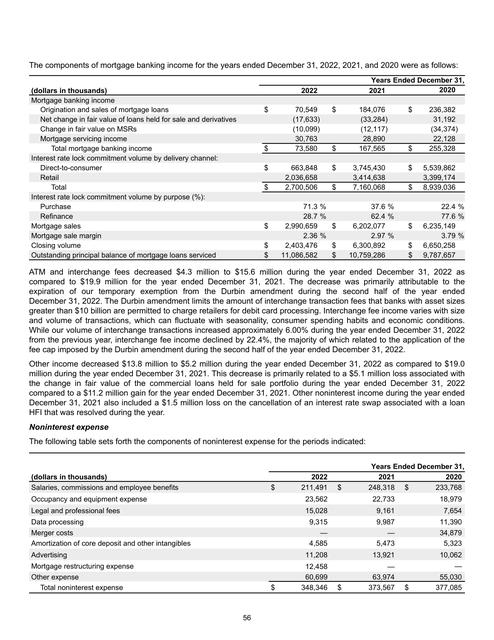box: (26, 74, 467, 264), (27, 451, 466, 594)
